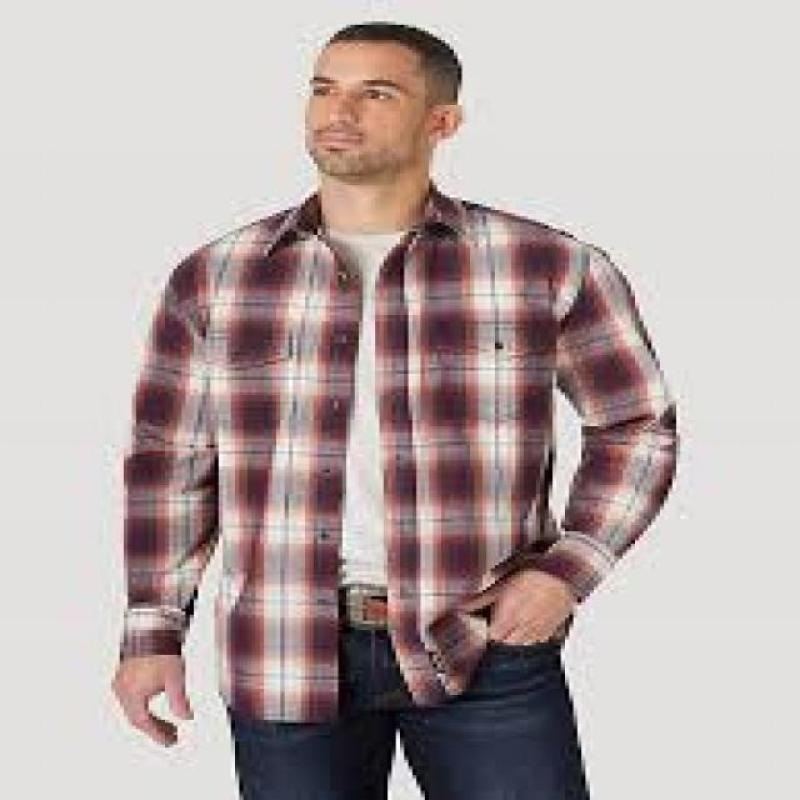long sleeve shirt: (118, 189, 680, 731)
trousers: (229, 615, 593, 800)
